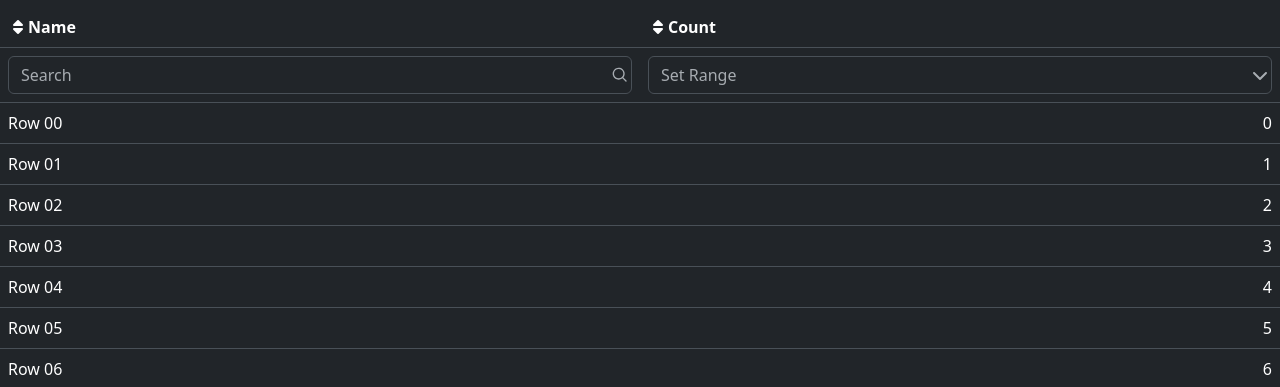
Test case: BaseTable › sorts by a column when its header is clicked, cycling asc -> desc
The image size is (1280, 387).
(page scrolled)
Click the text "Name" at (42, 27), box 8,16 -> 76,38
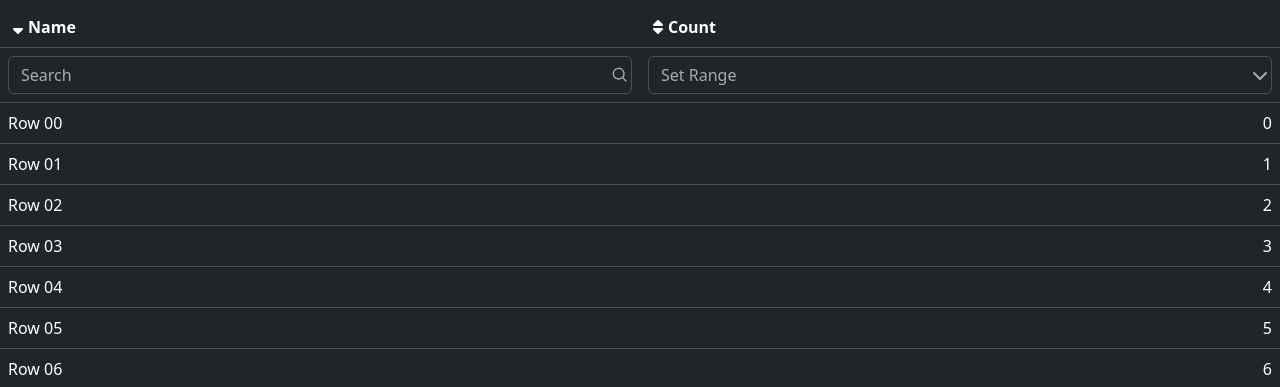
Expected: the cell "Row 00" is shown, 0,102 -> 640,144
Click the text "Name" at (42, 27), box 8,16 -> 76,38
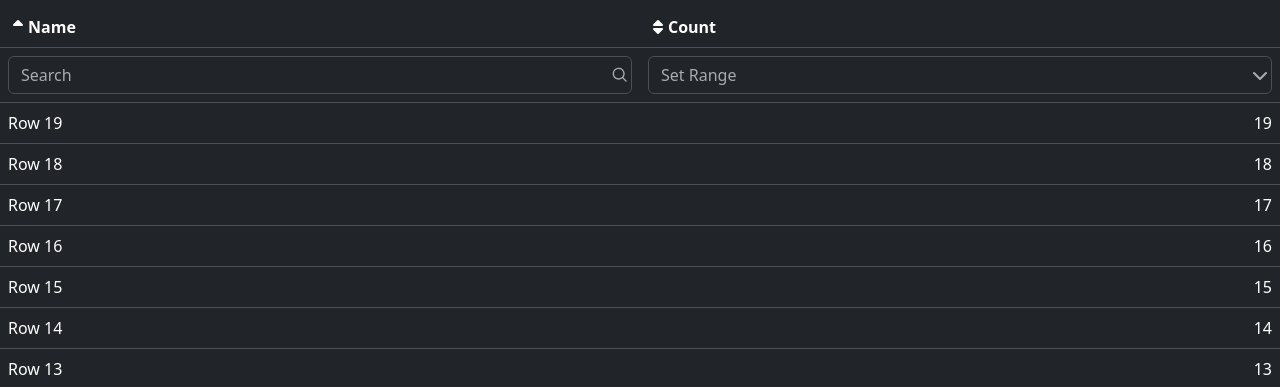
Now the cell "Row 19" is shown, box 0,102 -> 640,144
